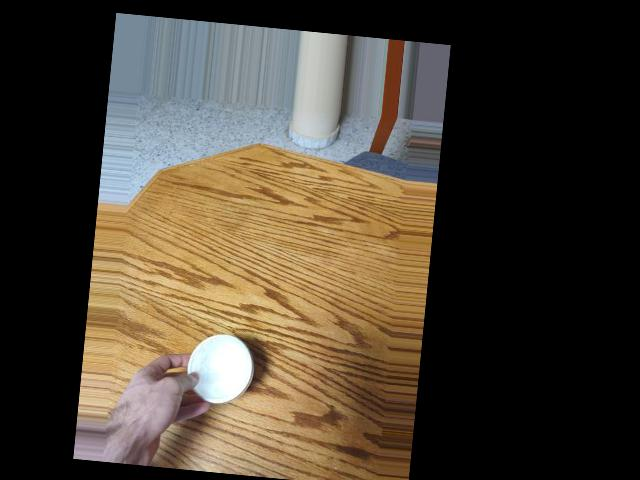cotage: (175, 325, 261, 412)
